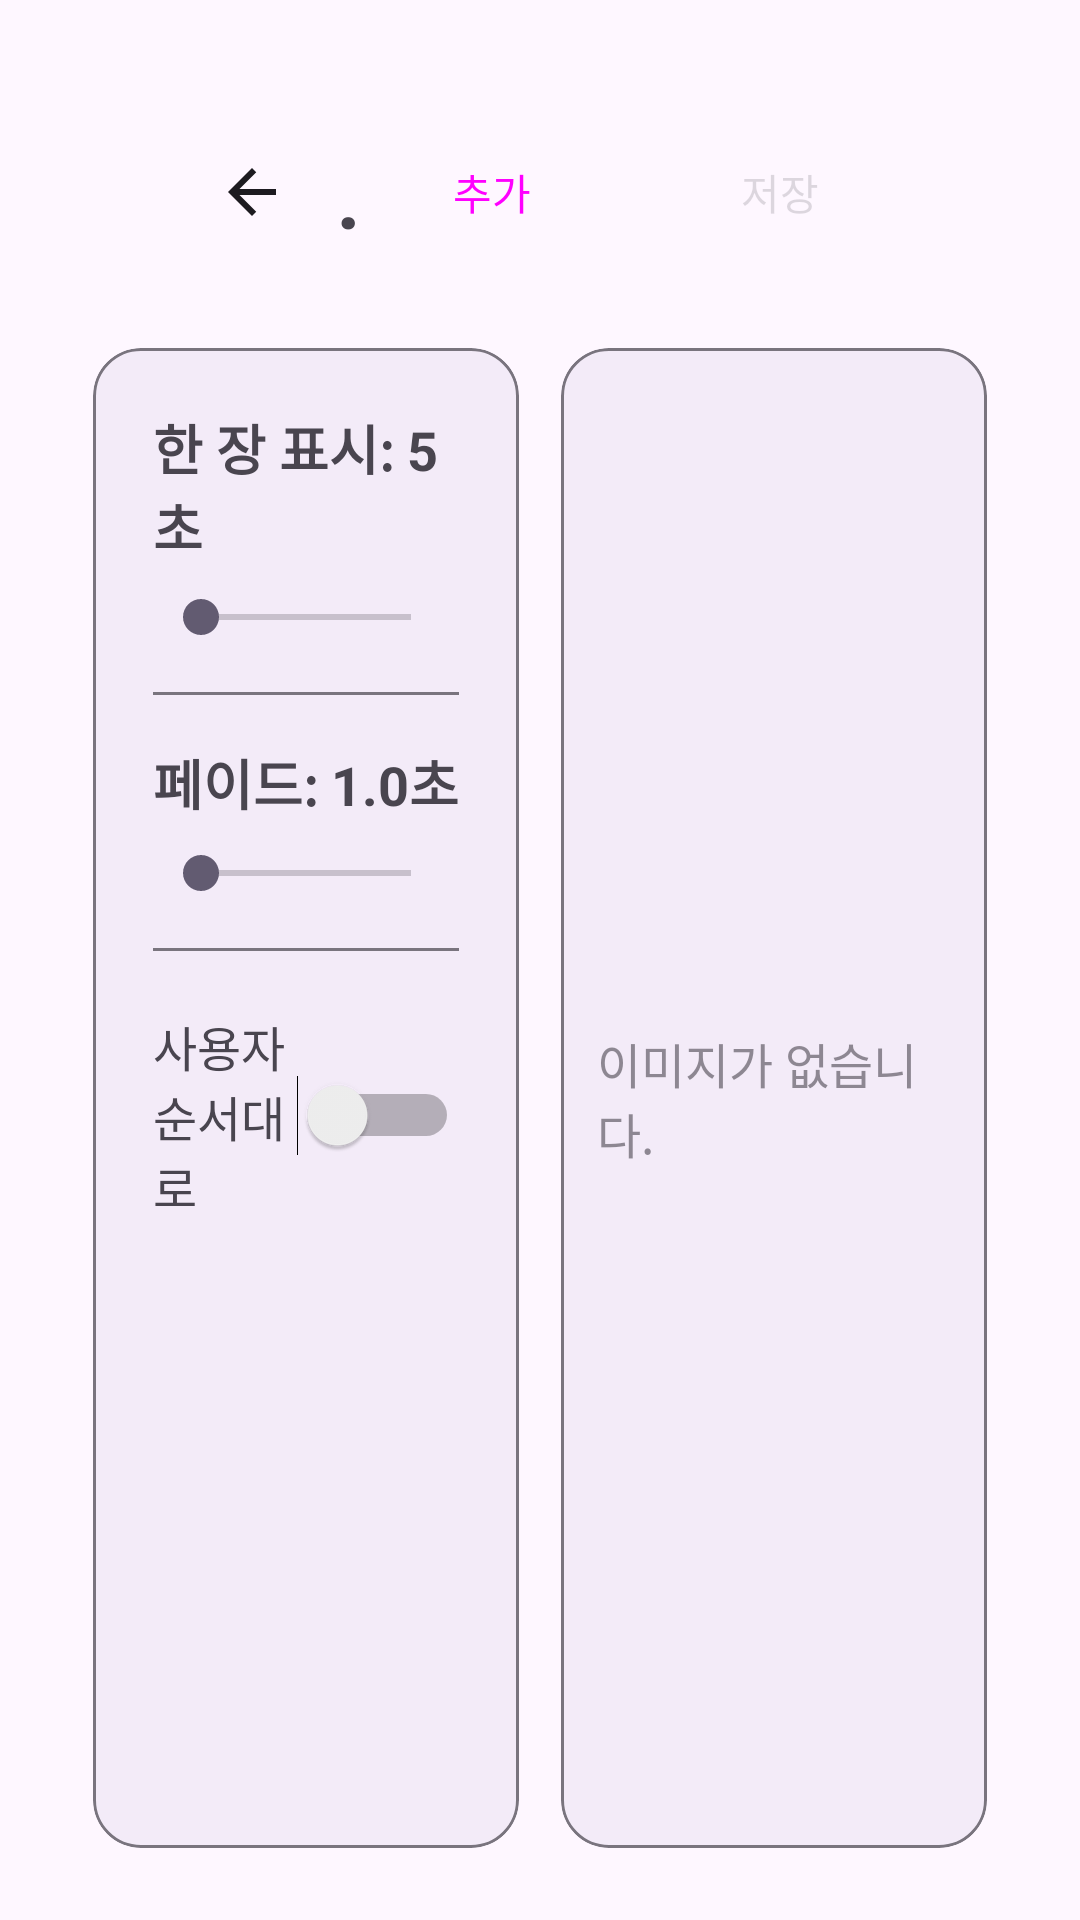

Icon bounding boxes for this 1080px x 1920px phone screenshot, format (x1, y1, x2, y2):
arrow back: (228, 168, 276, 216)
